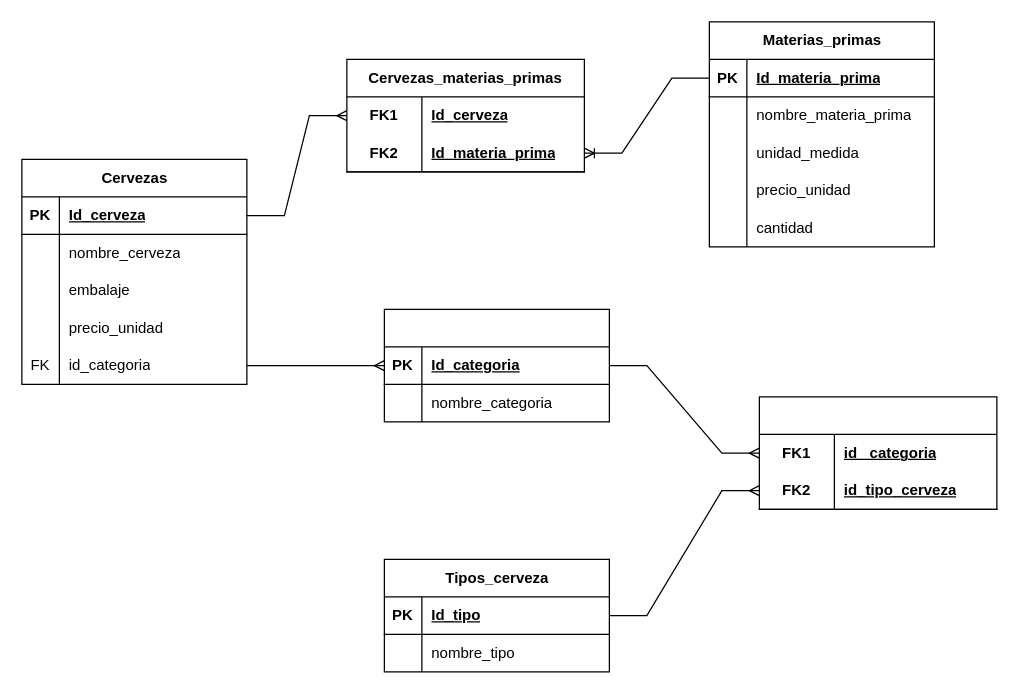
This 1019x694 diagram has some shape labels left out. Each missing label, with the box of its shape:
Categorias_tipos: (758, 396, 997, 509)
Categorías_cerveza: (383, 308, 609, 422)
